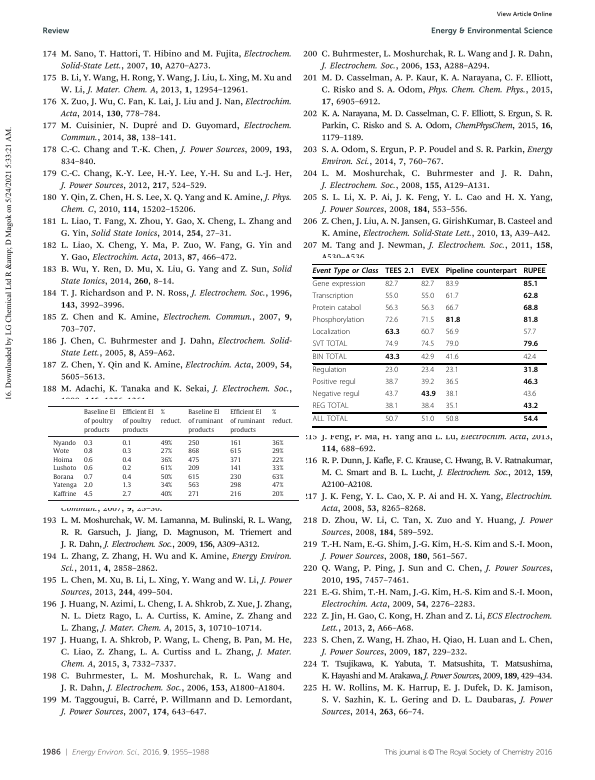borderless: (311, 263, 546, 426), (47, 404, 299, 500)
cell: (187, 409, 224, 434), (229, 409, 266, 434), (83, 409, 116, 434), (122, 409, 155, 434), (445, 267, 518, 276), (312, 267, 379, 276), (312, 280, 366, 290), (312, 316, 365, 326), (312, 304, 362, 314), (312, 390, 361, 400), (312, 378, 357, 388), (312, 292, 354, 302), (312, 328, 351, 338), (312, 402, 349, 412), (271, 409, 294, 425), (312, 353, 348, 363), (312, 366, 348, 376), (160, 409, 182, 425), (312, 416, 349, 425), (312, 340, 348, 349), (384, 267, 415, 276), (52, 490, 78, 499), (52, 464, 77, 473), (522, 267, 547, 276), (52, 482, 78, 490), (52, 439, 77, 447), (52, 473, 75, 481), (420, 267, 440, 276), (52, 456, 74, 464), (522, 366, 539, 376), (522, 378, 539, 388), (420, 390, 437, 400), (522, 402, 539, 412), (52, 447, 70, 456), (522, 280, 539, 289), (522, 292, 539, 301), (522, 304, 539, 313), (522, 316, 539, 325), (384, 328, 401, 337), (522, 340, 539, 349), (384, 353, 401, 362), (522, 416, 539, 425), (384, 280, 399, 290), (420, 280, 435, 290), (384, 292, 399, 302), (420, 292, 435, 302), (384, 304, 399, 314), (420, 304, 435, 314), (384, 316, 399, 326), (420, 316, 435, 326), (420, 328, 435, 338), (522, 328, 537, 338), (420, 353, 435, 363), (522, 353, 537, 363), (384, 366, 399, 376), (420, 366, 435, 376), (384, 378, 399, 388), (420, 378, 435, 388), (384, 390, 399, 400), (522, 390, 537, 400), (384, 402, 399, 412), (420, 402, 435, 412), (445, 316, 461, 325), (445, 280, 459, 290), (445, 292, 459, 302), (445, 304, 459, 314), (445, 328, 459, 338), (445, 353, 459, 363), (445, 366, 459, 376), (445, 378, 459, 388), (445, 390, 459, 400), (445, 402, 459, 412), (384, 340, 399, 349), (420, 340, 435, 349), (384, 416, 399, 425), (420, 416, 435, 425), (445, 340, 459, 349), (445, 416, 459, 425), (160, 447, 173, 456), (187, 447, 200, 456), (229, 447, 242, 456), (271, 447, 284, 456), (160, 464, 173, 473), (187, 464, 200, 473), (229, 464, 242, 473), (271, 464, 284, 473), (160, 490, 173, 499), (187, 490, 200, 499), (229, 490, 242, 499), (271, 490, 284, 499), (160, 439, 173, 447), (187, 439, 200, 447), (229, 439, 242, 447), (271, 439, 284, 447), (160, 456, 173, 464), (187, 456, 200, 464), (229, 456, 242, 464), (271, 456, 284, 464), (160, 473, 173, 481), (187, 473, 200, 481), (229, 473, 242, 481), (271, 473, 284, 481), (160, 482, 173, 490), (187, 482, 200, 490), (229, 482, 242, 490), (271, 482, 284, 490), (83, 447, 94, 456), (83, 464, 94, 473), (83, 490, 94, 499), (122, 447, 132, 456), (122, 464, 132, 473), (122, 490, 132, 499), (83, 439, 94, 447), (83, 456, 94, 464), (83, 473, 94, 481), (83, 482, 94, 490), (122, 439, 132, 447), (122, 456, 132, 464), (122, 473, 132, 481), (122, 482, 132, 490)
